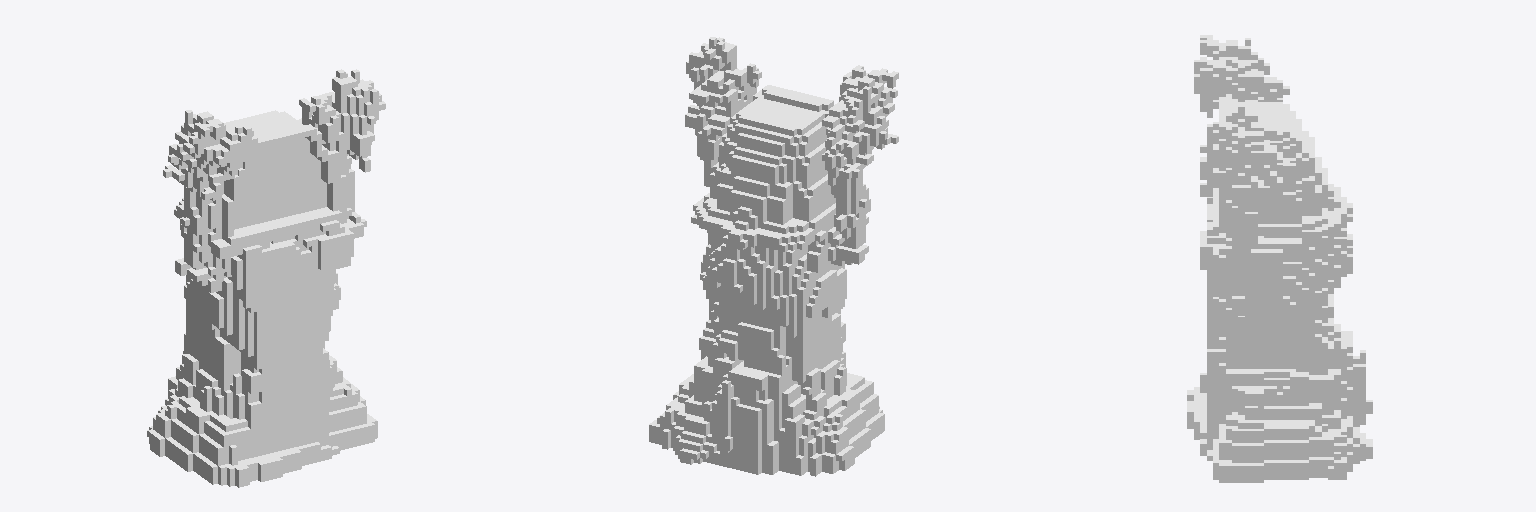
Rendered from playerHup01.obj.
3 renders of one model, left to right at view 1: azimuth 30°, elevation 25°; view 2: azimuth 150°, elevation 25°; view 3: azimuth 270°, elevation 25°, orthographic.
Parts seen in each view (by area): view 1: object 1; view 2: object 1; view 3: object 1.
Boxes of the visible parts, x1,y1,x2,y2 form: object 1: [147, 69, 385, 487]; object 1: [649, 37, 898, 476]; object 1: [1187, 35, 1372, 482].
Size of the model in its own units: 3.7 by 6.3 by 2.9.